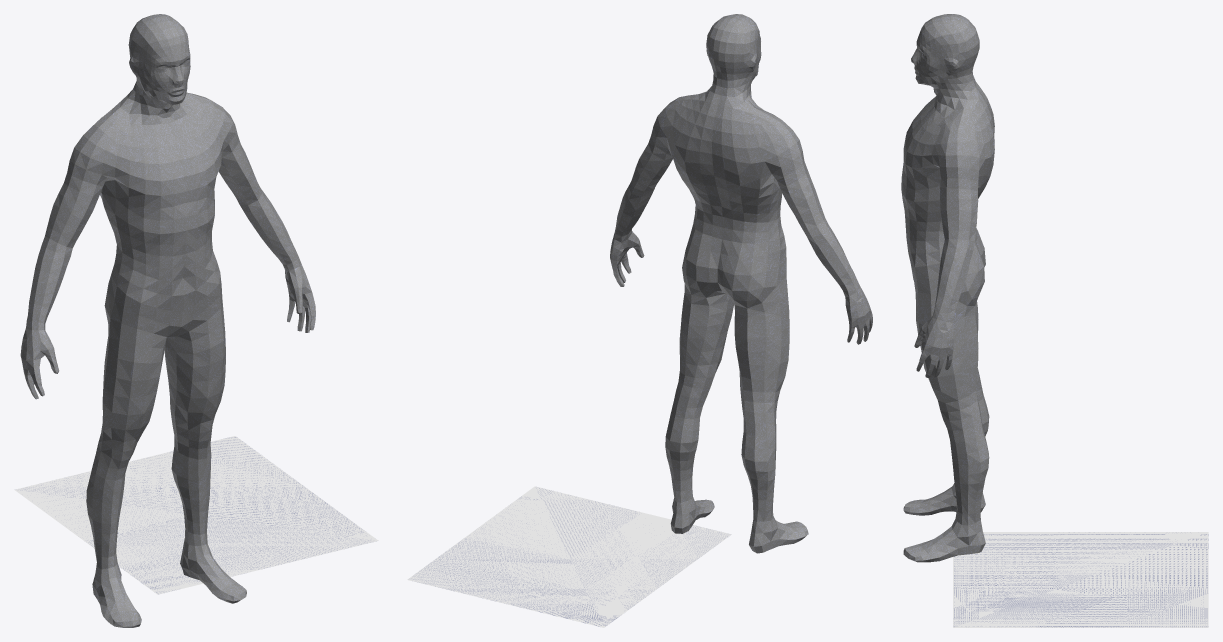
File: player.dae
3 views of the same model, side by side, from view 1: azimuth 30°, elevation 25°; view 2: azimuth 150°, elevation 25°; view 3: azimuth 270°, elevation 25° (orthographic). The views are drawn at different scales.
Parts seen in each view (by area): view 1: humanBody_, V-Ray_Infinite_Plane; view 2: humanBody_, V-Ray_Infinite_Plane; view 3: humanBody_, V-Ray_Infinite_Plane.
Boxes of the visible parts, bbox=[...] form: humanBody_: bbox=[20, 14, 315, 627]; V-Ray_Infinite_Plane: bbox=[14, 436, 378, 594]; humanBody_: bbox=[610, 14, 872, 553]; V-Ray_Infinite_Plane: bbox=[407, 486, 731, 627]; humanBody_: bbox=[901, 14, 994, 562]; V-Ray_Infinite_Plane: bbox=[953, 532, 1208, 627].
Bounding box in the file's own units: 121 × 99.04 × 184.
